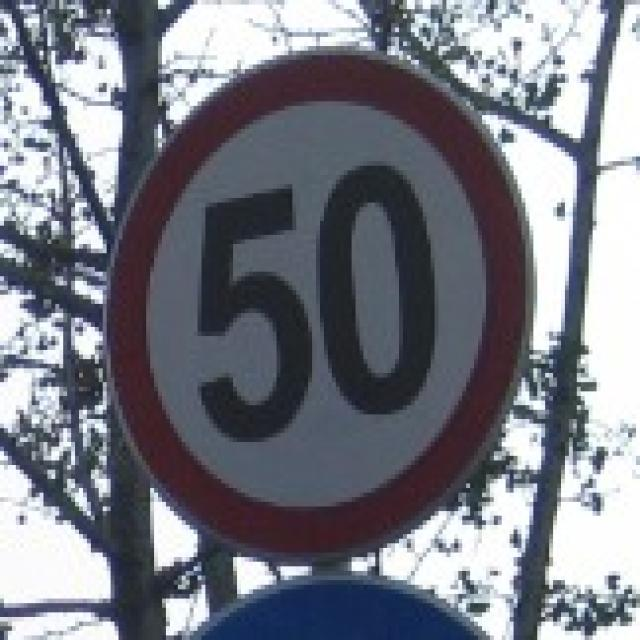Speed Limit -50-: (189, 158, 442, 446)
